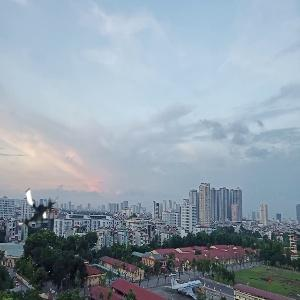drone: (13, 182, 64, 233)
